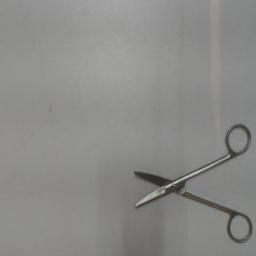Curved Mayo Scissors: (131, 118, 255, 248)
